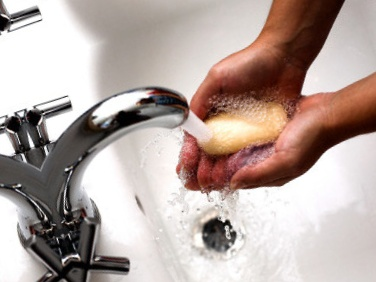washing hand: (58, 0, 372, 281)
